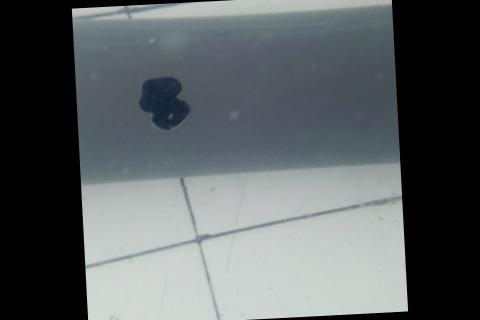kebocoran: (135, 74, 192, 133)
